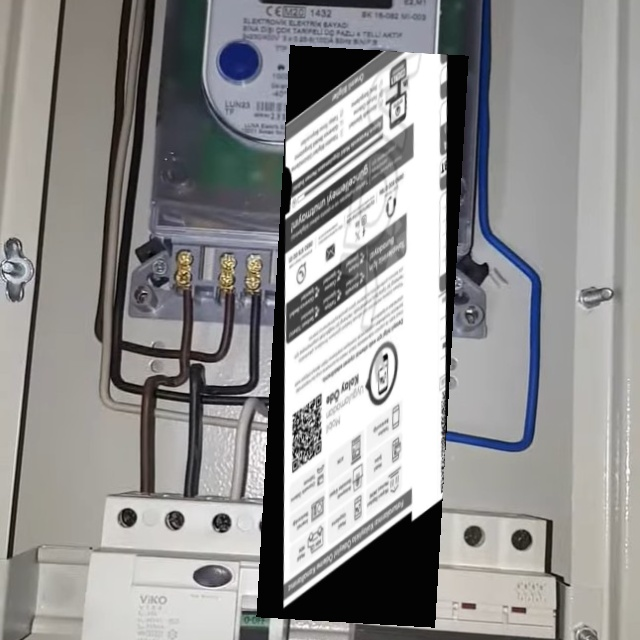electricity-bill: (255, 45, 469, 627)
